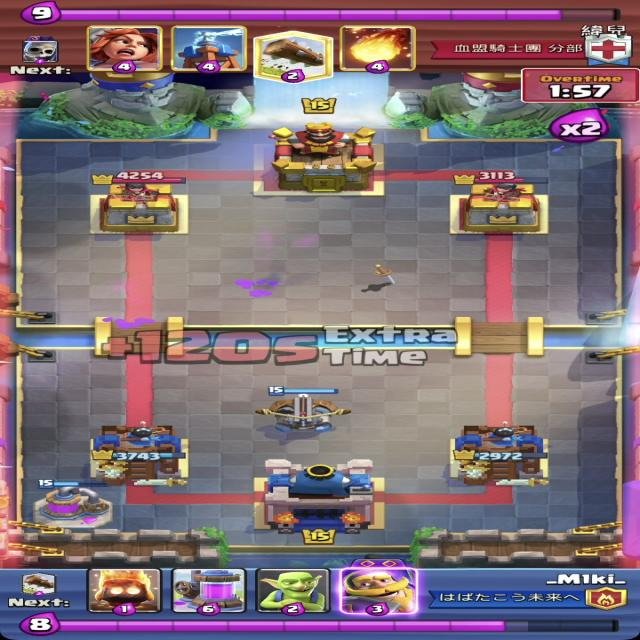Player-ElixirPump: (31, 479, 115, 529)
Player-XBow: (256, 386, 354, 432)
